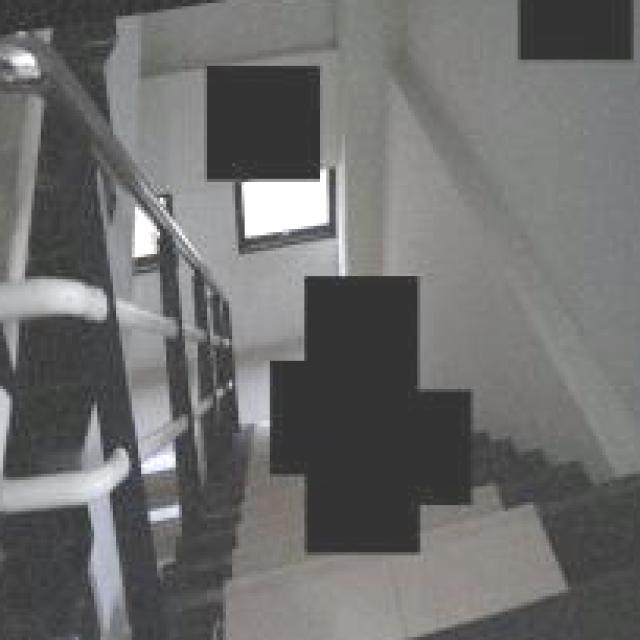downstair: (186, 487, 309, 640)
